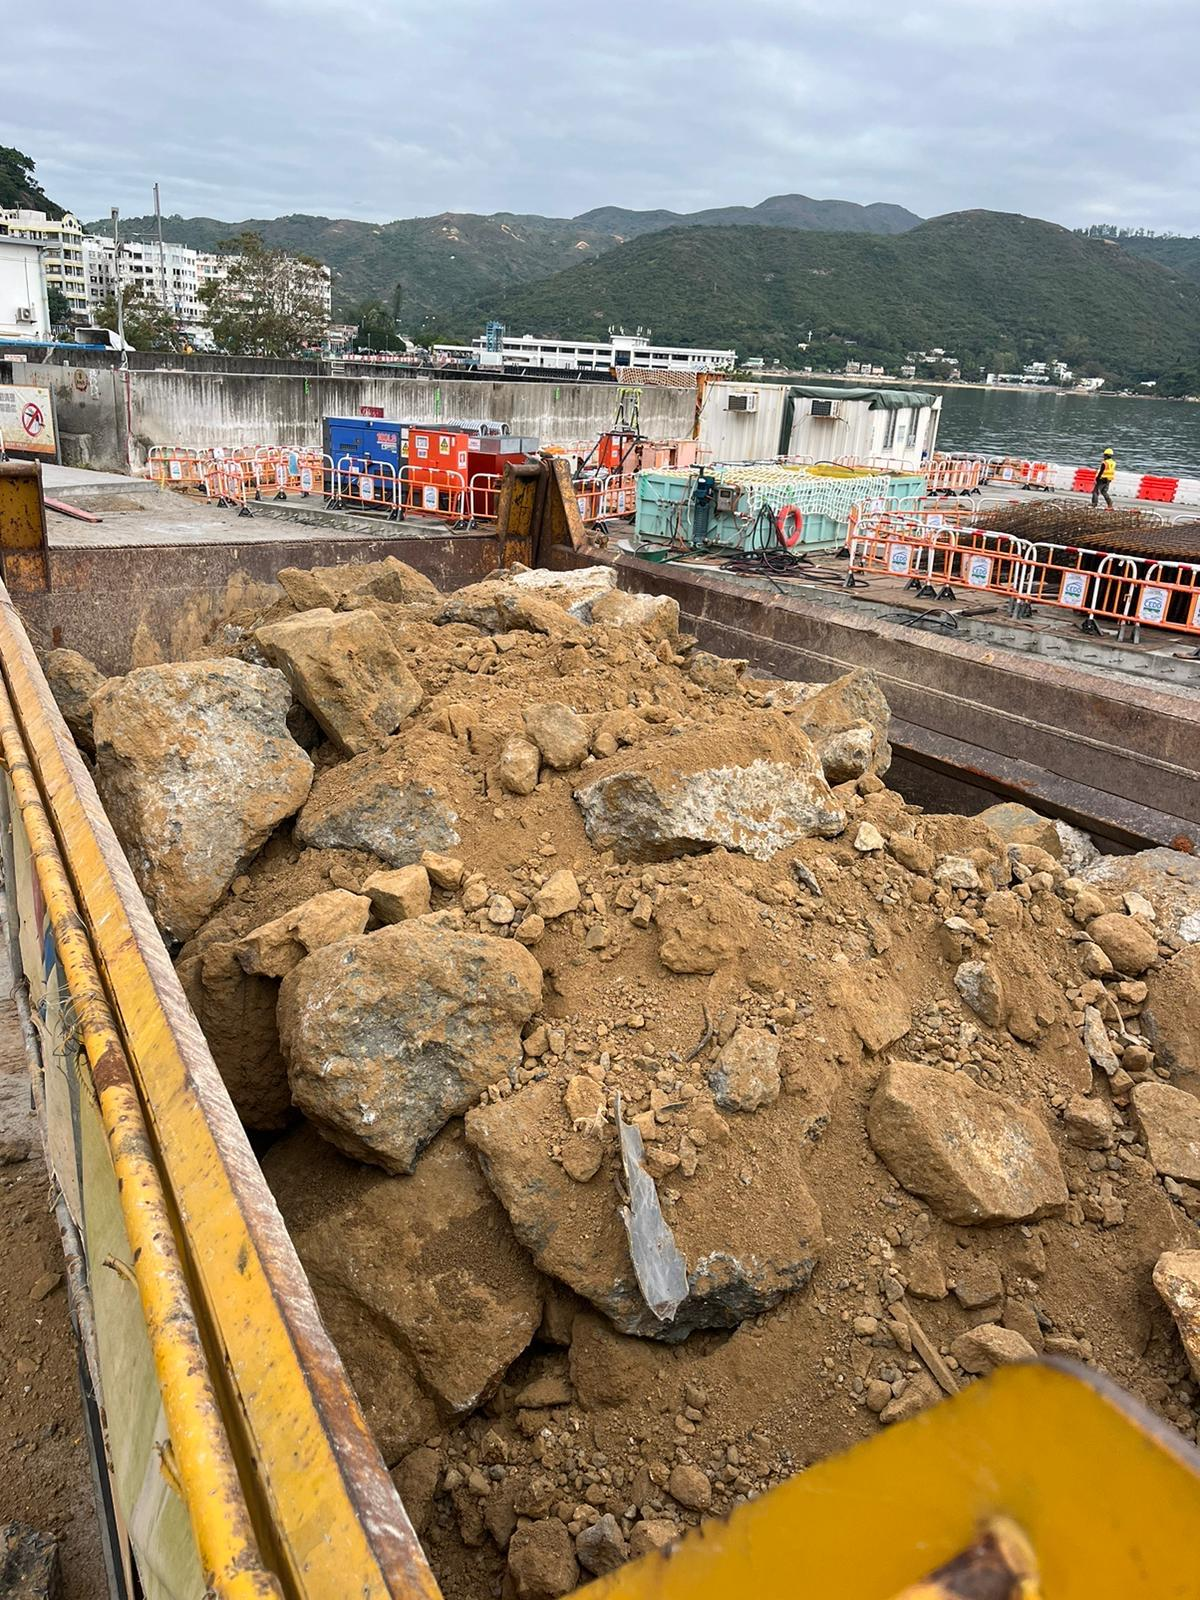dirt: (26, 552, 1197, 1596)
stone: (463, 1065, 827, 1343), (258, 1116, 546, 1421), (274, 910, 545, 1175), (87, 654, 315, 942), (570, 706, 847, 860), (865, 1058, 1069, 1226), (252, 603, 424, 756)
